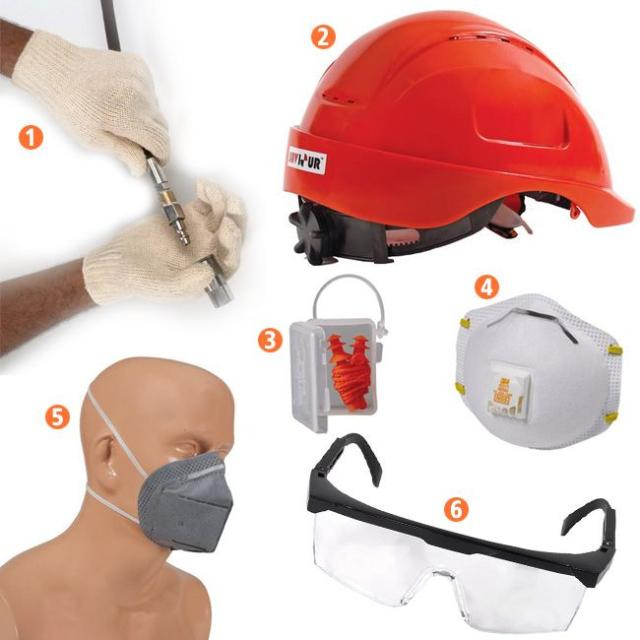goggles: (301, 444, 617, 630)
helmet: (292, 13, 633, 270)
